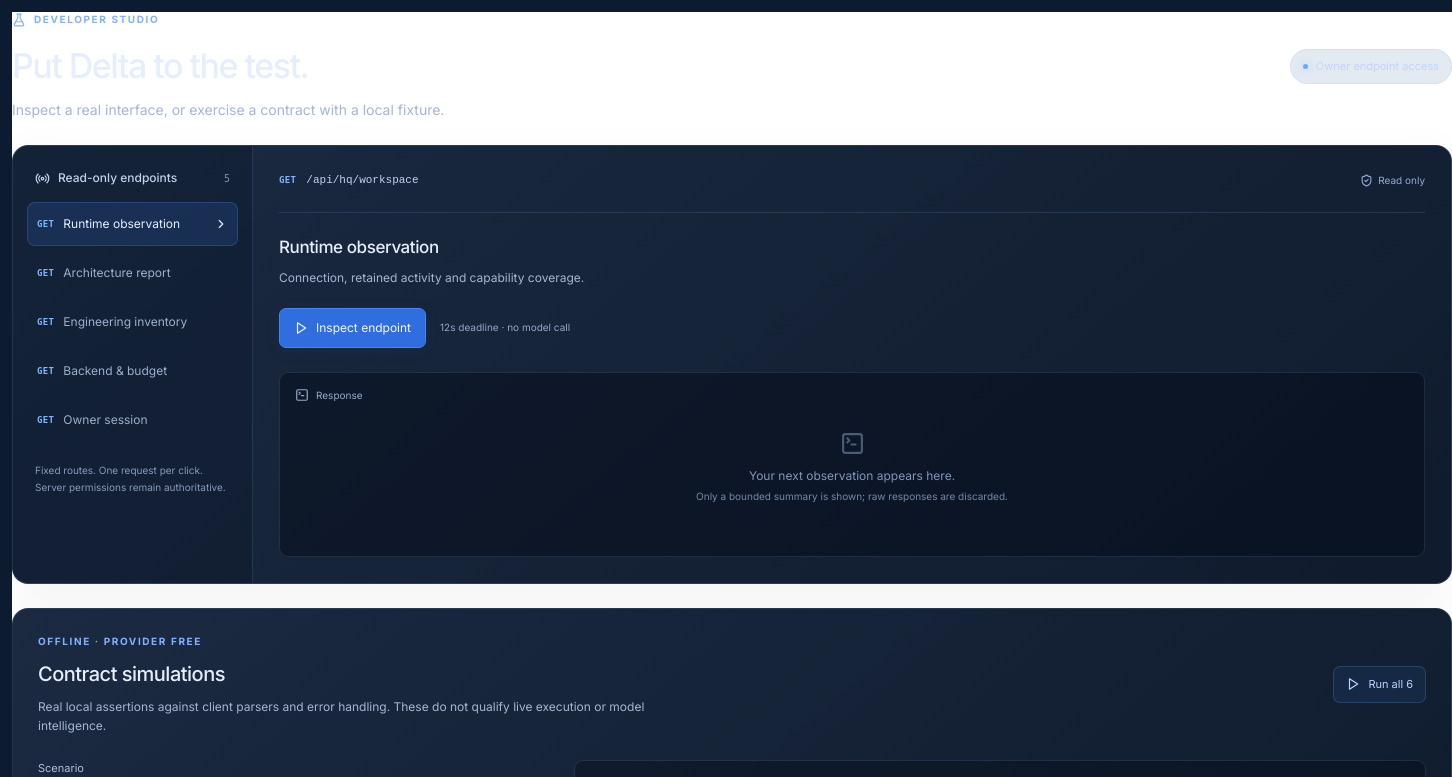
Scenario: surfaces denied requests without exposing their body or retrying
Click the button "Inspect endpoint": point(352, 328) top-left (279, 308), bottom-right (426, 348)
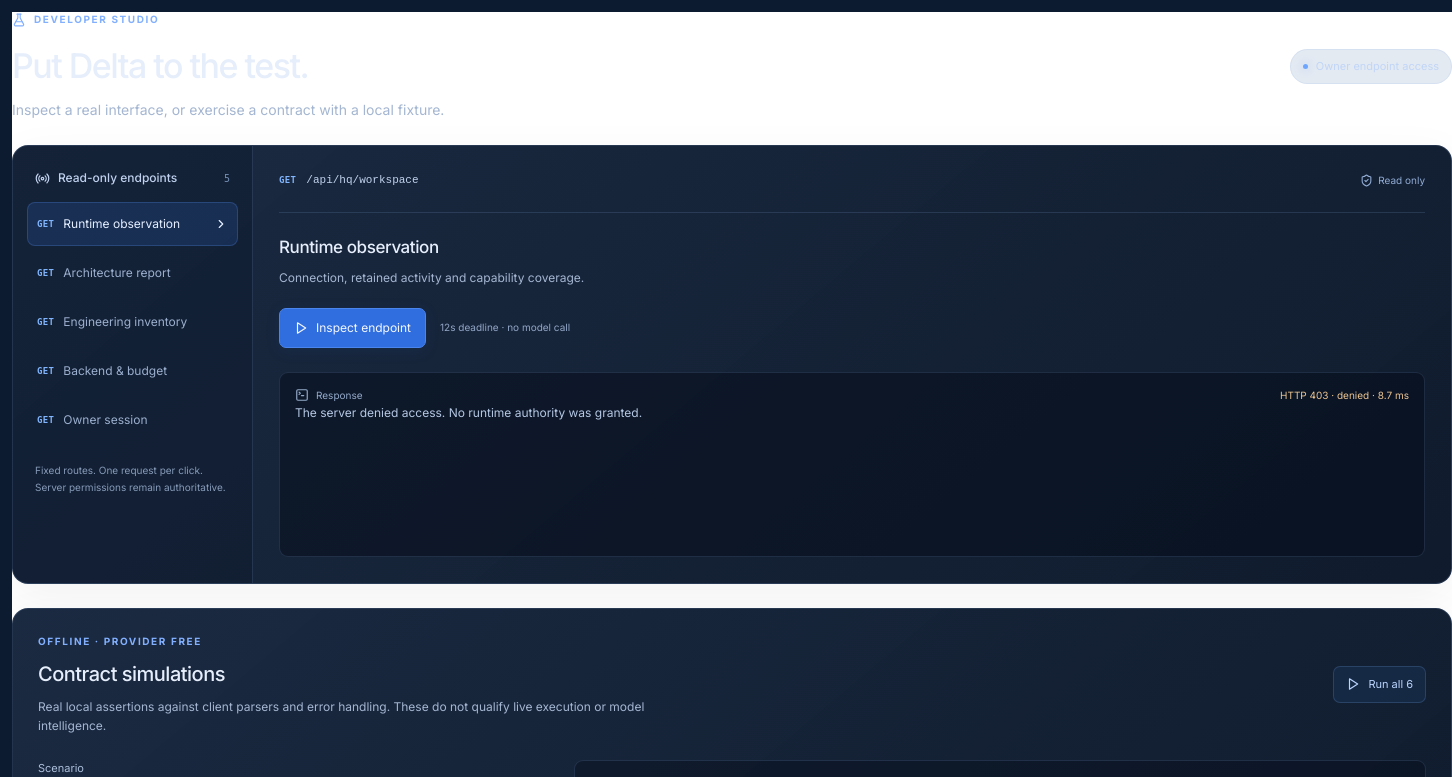
Result: the message shows "server denied access" at top-left (295, 405), bottom-right (642, 420)
